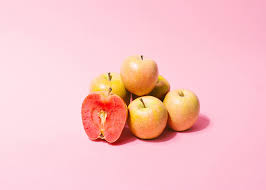apple: (128, 97, 172, 142), (165, 84, 203, 132), (89, 69, 133, 105), (123, 53, 157, 99)
damaged_apple: (81, 92, 130, 142)
